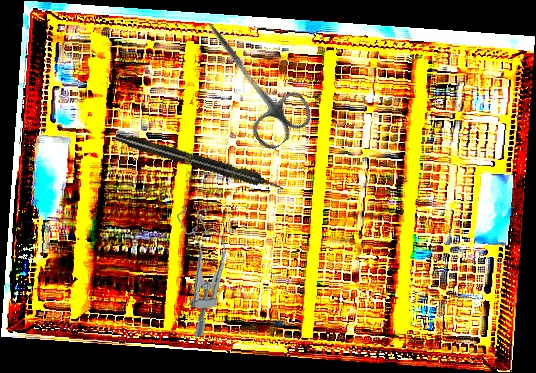Handpiece: (113, 129, 286, 196)
Iris Scissors: (182, 5, 318, 155)
Speculum: (176, 204, 232, 338)
